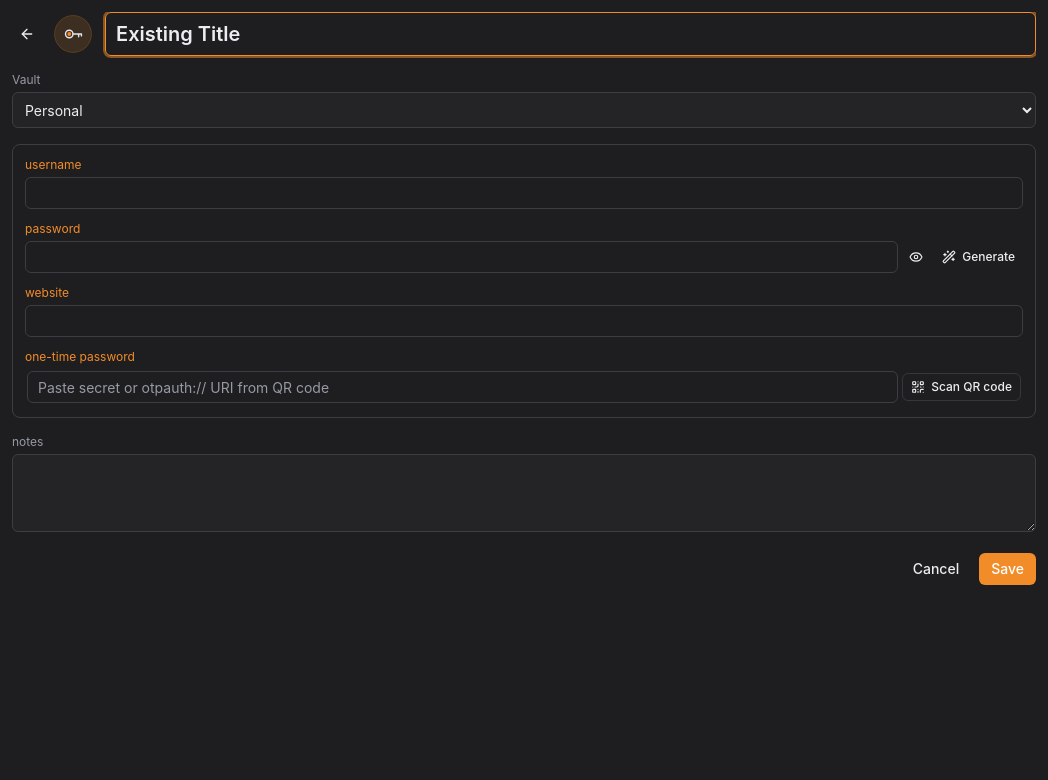
Test case: TOTP QR code scanning › CreateForm: does not offer title autofill if title is already filled
What coordinates should you click on to do the following:
click the button with test id "totp-scan-button"
I would click on:
 (962, 387)
Its box is [902,373,1021,401].
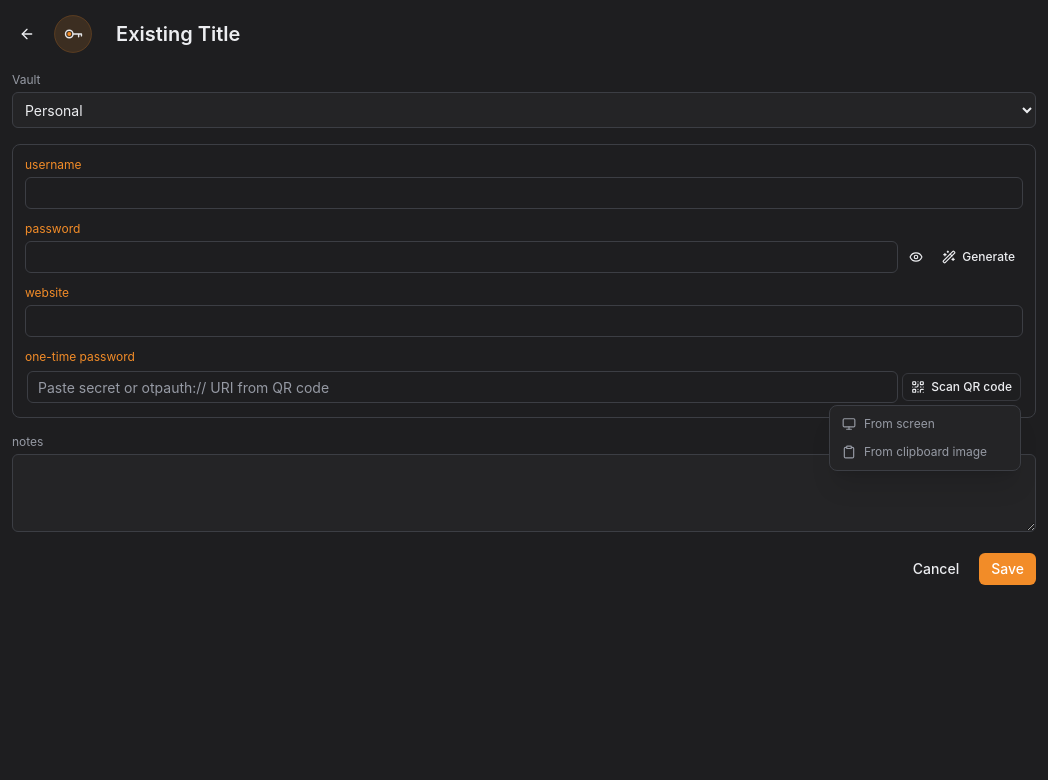
What coordinates should you click on to do the following:
click the menu item with test id "scan-qr-screen"
I would click on:
 (888, 424)
Its box is [842,416,935,431].
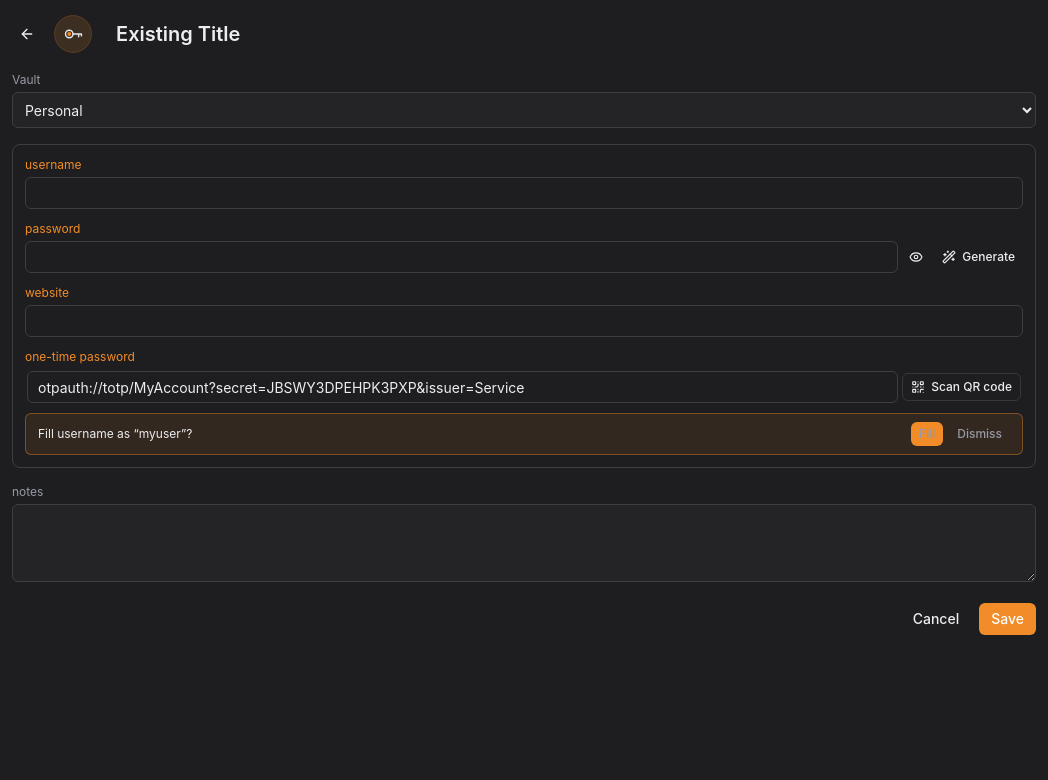
expect the element with test id "totp-autofill-suggestion" shows "Fill username as “myuser”?": met, box [38,426,192,441]
What coordinates should you click on to do the following:
click the button with test id "totp-autofill-apply"
I would click on:
 (927, 434)
Its box is [911,422,943,446].
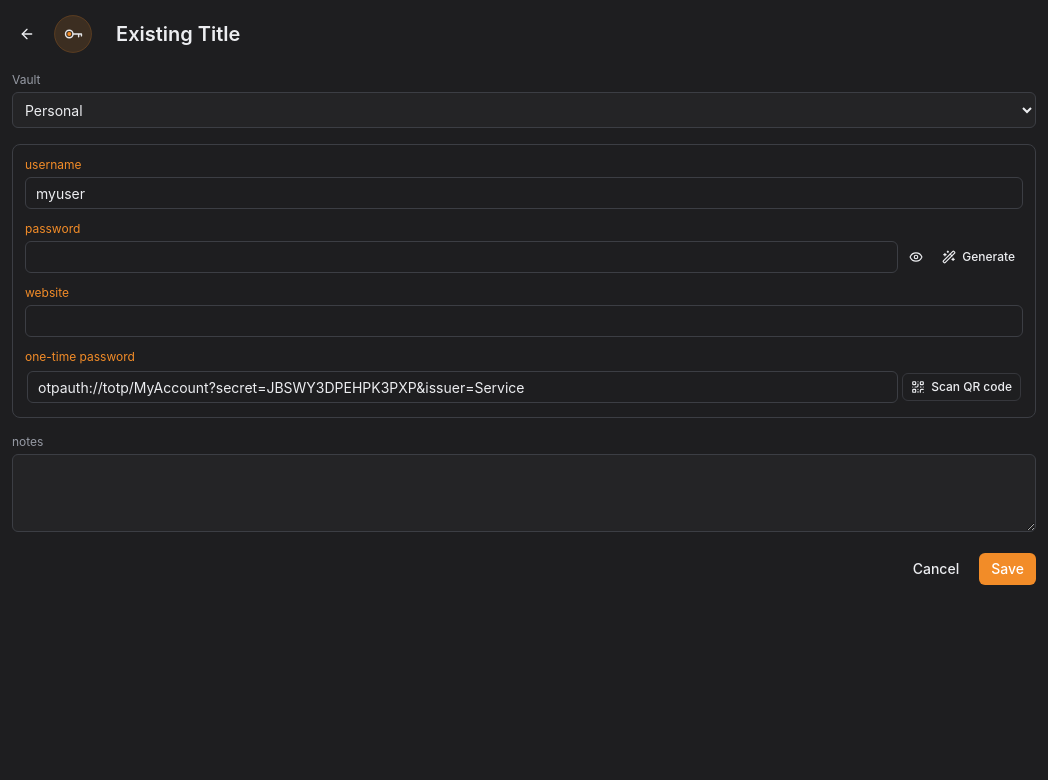
expect the field named "Title" holds "Existing Title": met, box [105,12,1036,56]
expect the field named "username" holds "myuser": met, box [25,177,1023,209]
